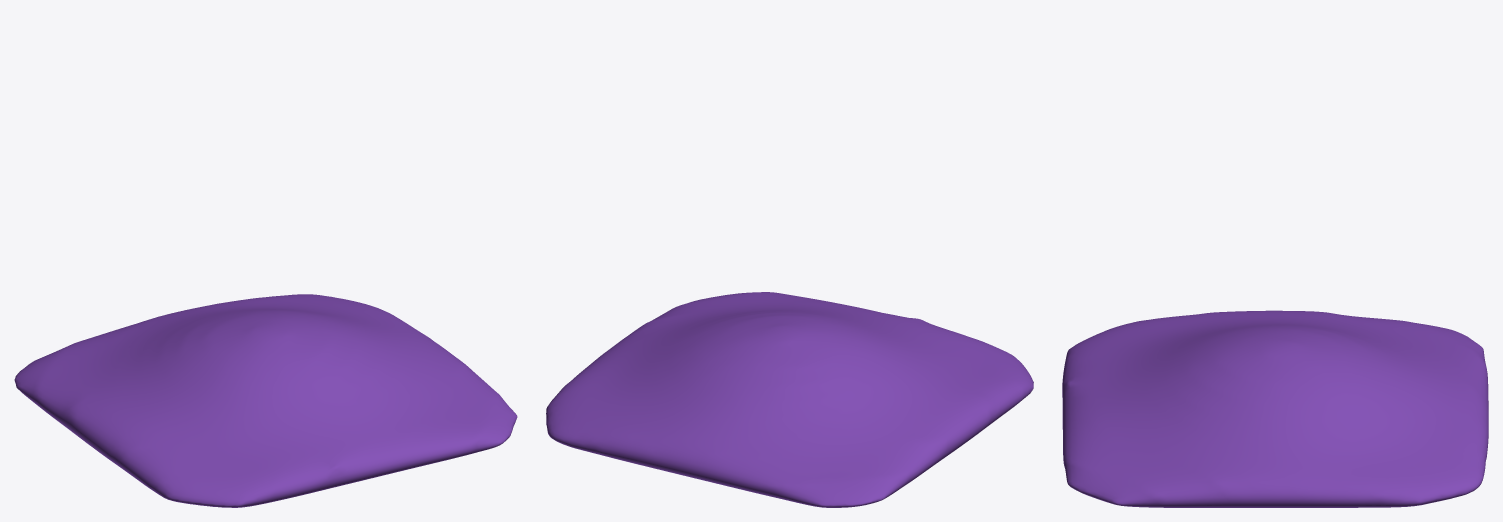
The model's file is slime_0040.dae.
3 renders of one model, left to right at view 1: azimuth 30°, elevation 25°; view 2: azimuth 150°, elevation 25°; view 3: azimuth 270°, elevation 25°, orthographic. The views are drawn at different scales.
Parts seen in each view (by area): view 1: Slime; view 2: Slime; view 3: Slime.
Boxes of the visible parts, left/top/right/bottom form: Slime: left=14, top=294, right=517, bottom=507; Slime: left=546, top=292, right=1033, bottom=507; Slime: left=1062, top=310, right=1488, bottom=507.
Bounding box in the file's own units: 3.53 × 3.77 × 3.52.
